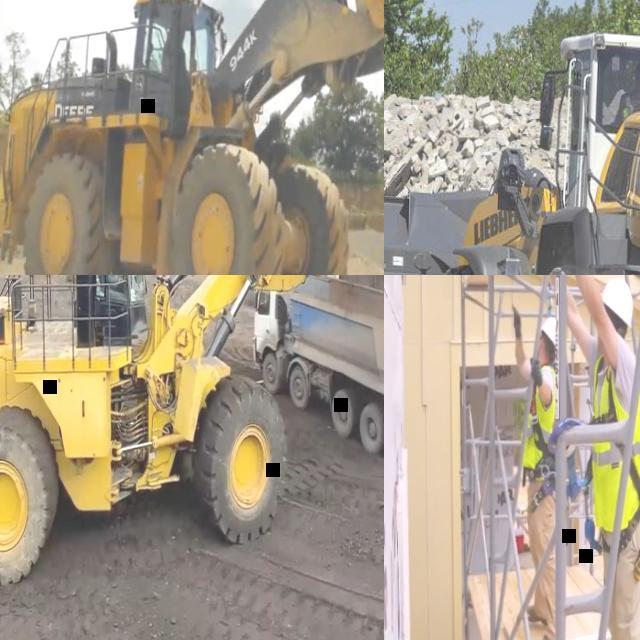Helmet: (601, 263, 640, 340), (539, 297, 568, 358)
Robbery: (500, 306, 586, 640), (564, 274, 640, 628)
